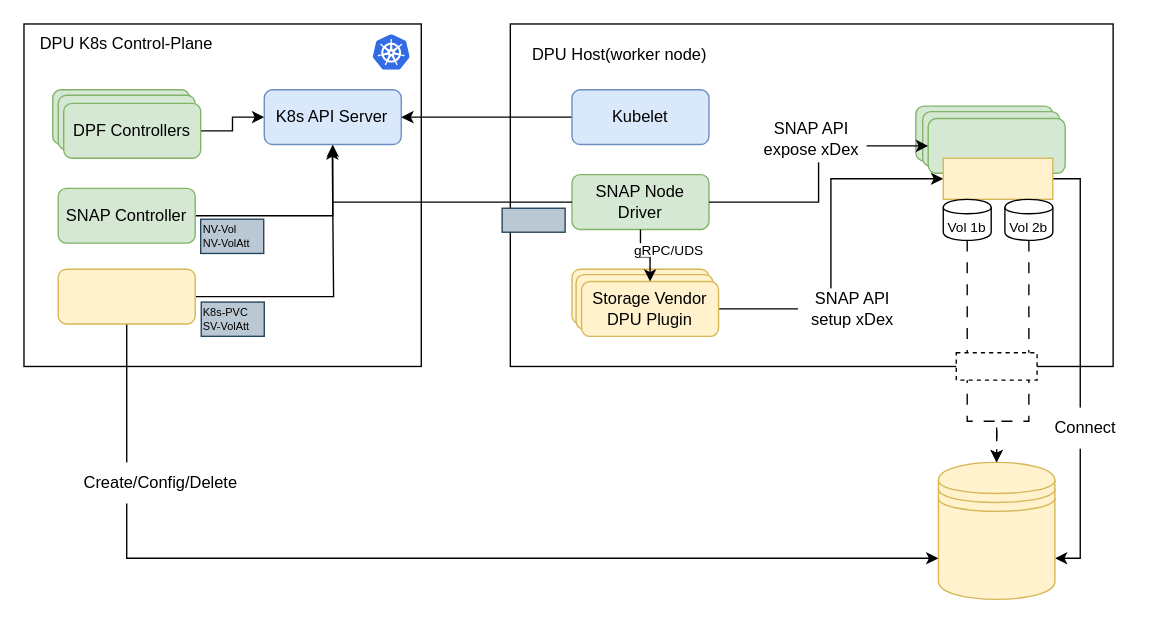
Image size: 1165x623. Some labels were removed from this diagram. Here are the shapes that lost their labels. From the top down, the box of each, then its label:
(927, 117, 1065, 173): SNAP
(942, 157, 1053, 199): Storage Vendor xDex
(501, 207, 565, 232): NV-VolAtt
(57, 268, 195, 324): Storage Vendor CSI Controller
(955, 351, 1037, 380): SF1
(937, 461, 1055, 599): Remote Storage Vendor
